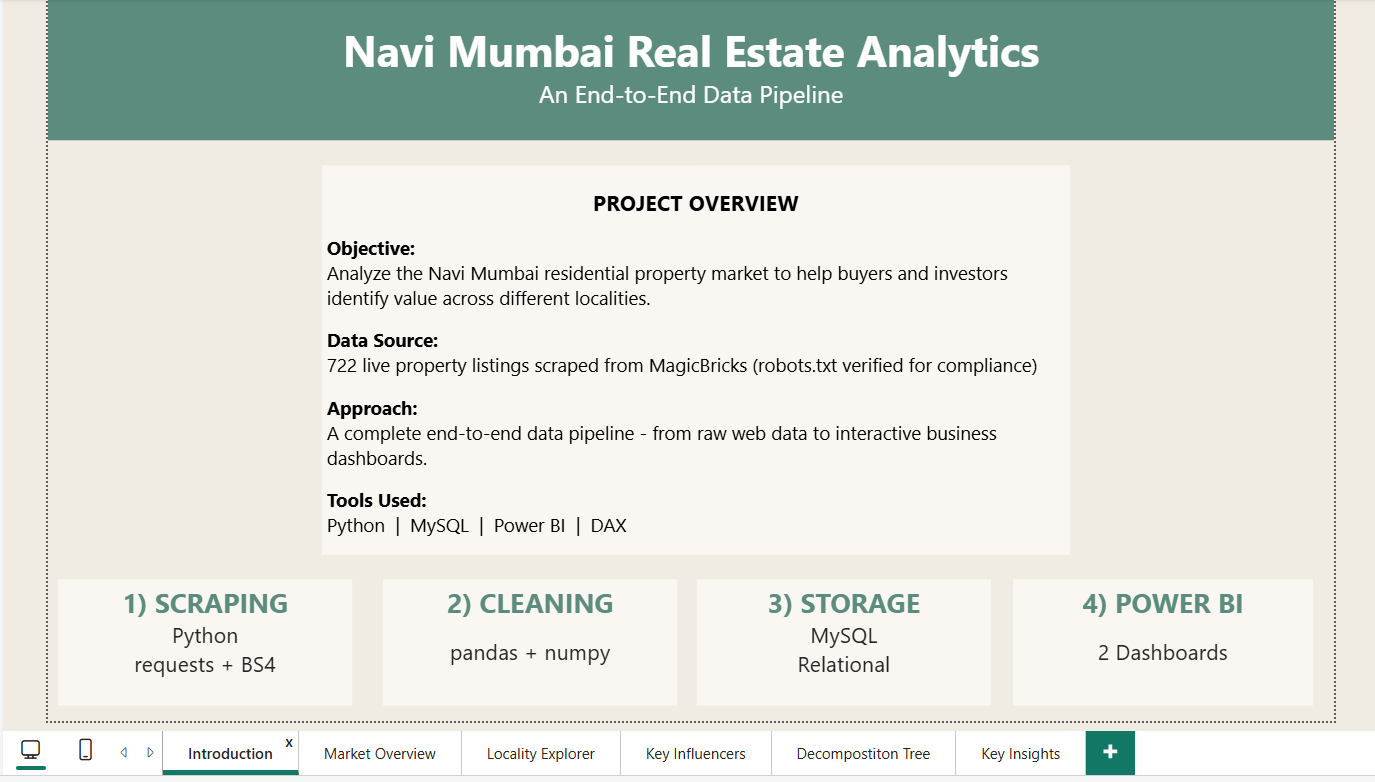

Layout of this report page (visuals, bound fields, positions):
{"tool":"powerbi","page":{"name":"Introduction","canvas":[1280,720],"ordinal":0},"visuals":[{"type":"textbox","box":[0,0,1280,141.4],"z":0},{"type":"textbox","box":[272.5,166.2,745,387.5],"z":1000},{"type":"textbox","box":[10,578.6,292.9,125.7],"z":2000},{"type":"textbox","box":[332.9,578.6,292.9,125.7],"z":3000},{"type":"textbox","box":[645.7,578.6,292.9,125.7],"z":4000},{"type":"textbox","box":[960,578.6,298.6,125.7],"z":5000}]}

Visuals, with their boxes on the page's 1280x720 design canvas (x1, y1, x2, y2). These are canvas units, not pixel positions in the 1375x782 screenshot, which may show the page scaled, cropped or inside an application window:
textbox: x1=0 y1=0 x2=1280 y2=141
textbox: x1=272 y1=166 x2=1018 y2=554
textbox: x1=10 y1=579 x2=303 y2=704
textbox: x1=333 y1=579 x2=626 y2=704
textbox: x1=646 y1=579 x2=939 y2=704
textbox: x1=960 y1=579 x2=1259 y2=704
